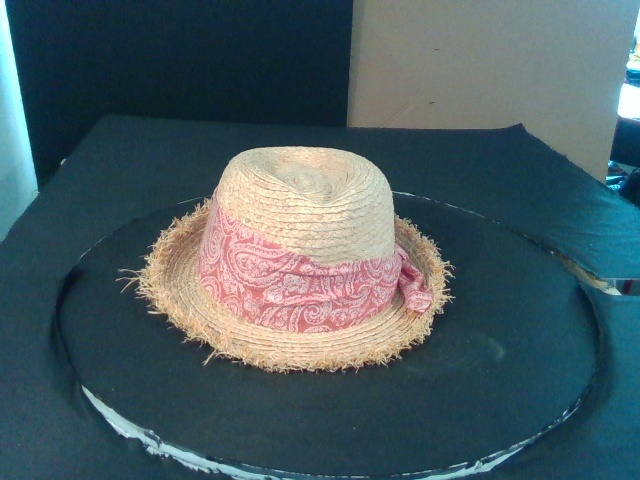hat: (142, 145, 446, 372)
